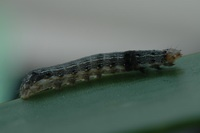insect: (20, 49, 181, 98)
